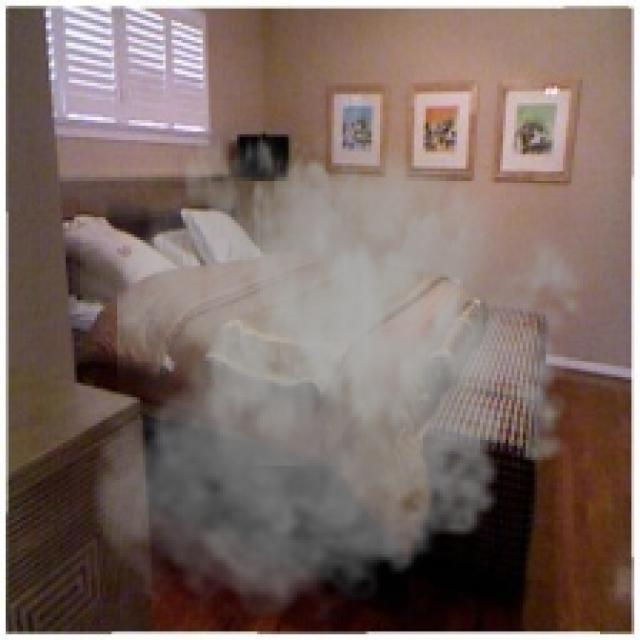smoke: (80, 95, 600, 634)
